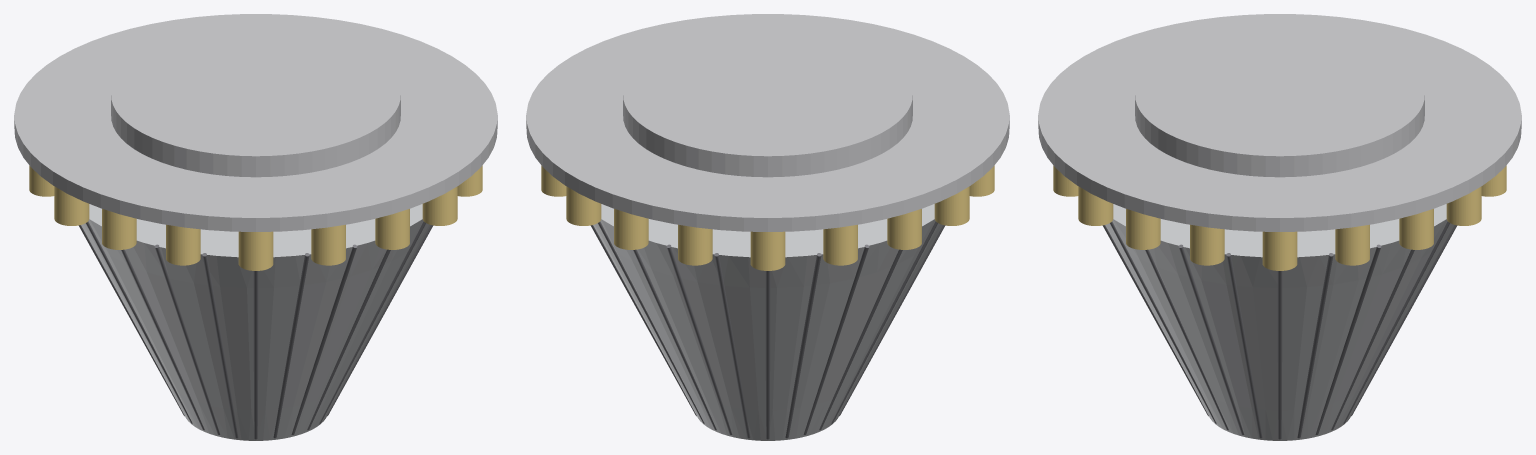
Rendered from prop16_aerospike_toroidal.glb.
3 renders of one model, left to right at view 1: azimuth 30°, elevation 25°; view 2: azimuth 150°, elevation 25°; view 3: azimuth 270°, elevation 25°, orthographic.
Visible parts, largest first — view 1: thrust_structure, plug, chamber_ring, cooling_ribs; view 2: thrust_structure, plug, chamber_ring, cooling_ribs; view 3: thrust_structure, plug, chamber_ring, cooling_ribs.
Part boxes in pixels (x1,y1,x2,y2): thrust_structure: (14,14,497,231); plug: (81,204,430,440); chamber_ring: (29,165,482,270); cooling_ribs: (78,221,433,439); thrust_structure: (526,14,1009,231); plug: (593,204,942,440); chamber_ring: (541,165,994,270); cooling_ribs: (590,221,945,439); thrust_structure: (1038,14,1521,231); plug: (1105,204,1454,440); chamber_ring: (1053,165,1506,270); cooling_ribs: (1102,221,1457,439).
Size of the model in its own units: 2.5 by 1.8 by 2.5.
